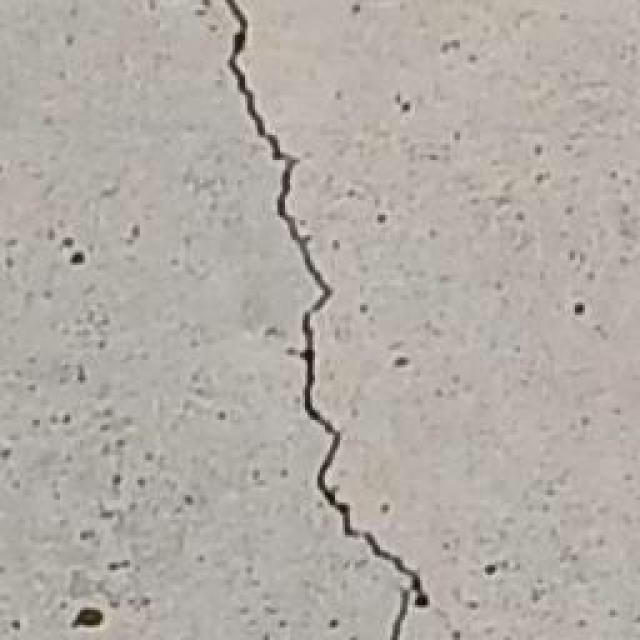concrete-crack: (223, 2, 435, 636)
